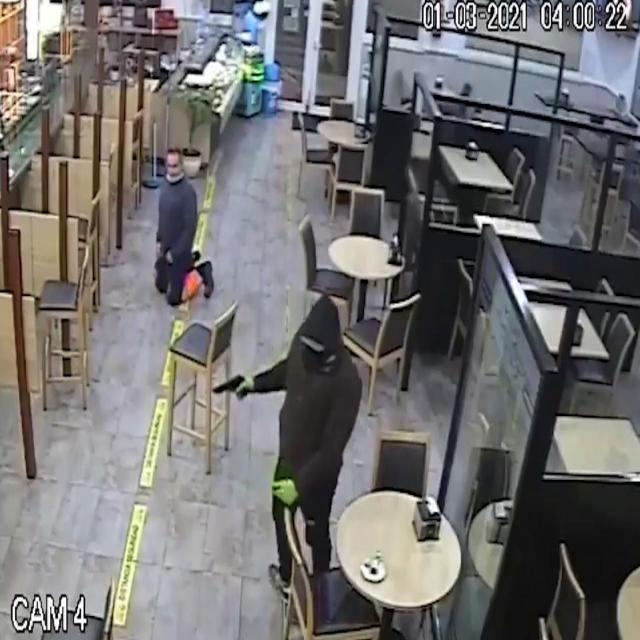weapon: (206, 364, 267, 418)
